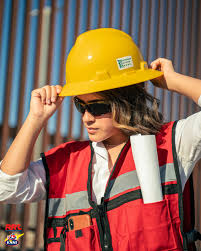Casco de seguridad: (60, 28, 162, 95)
